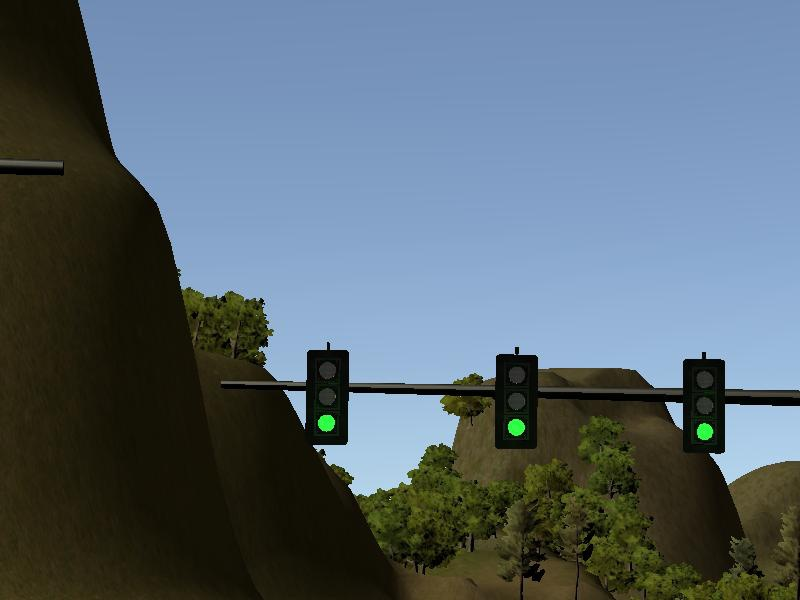Green: (683, 358, 726, 454), (496, 353, 538, 448), (307, 352, 348, 444)
